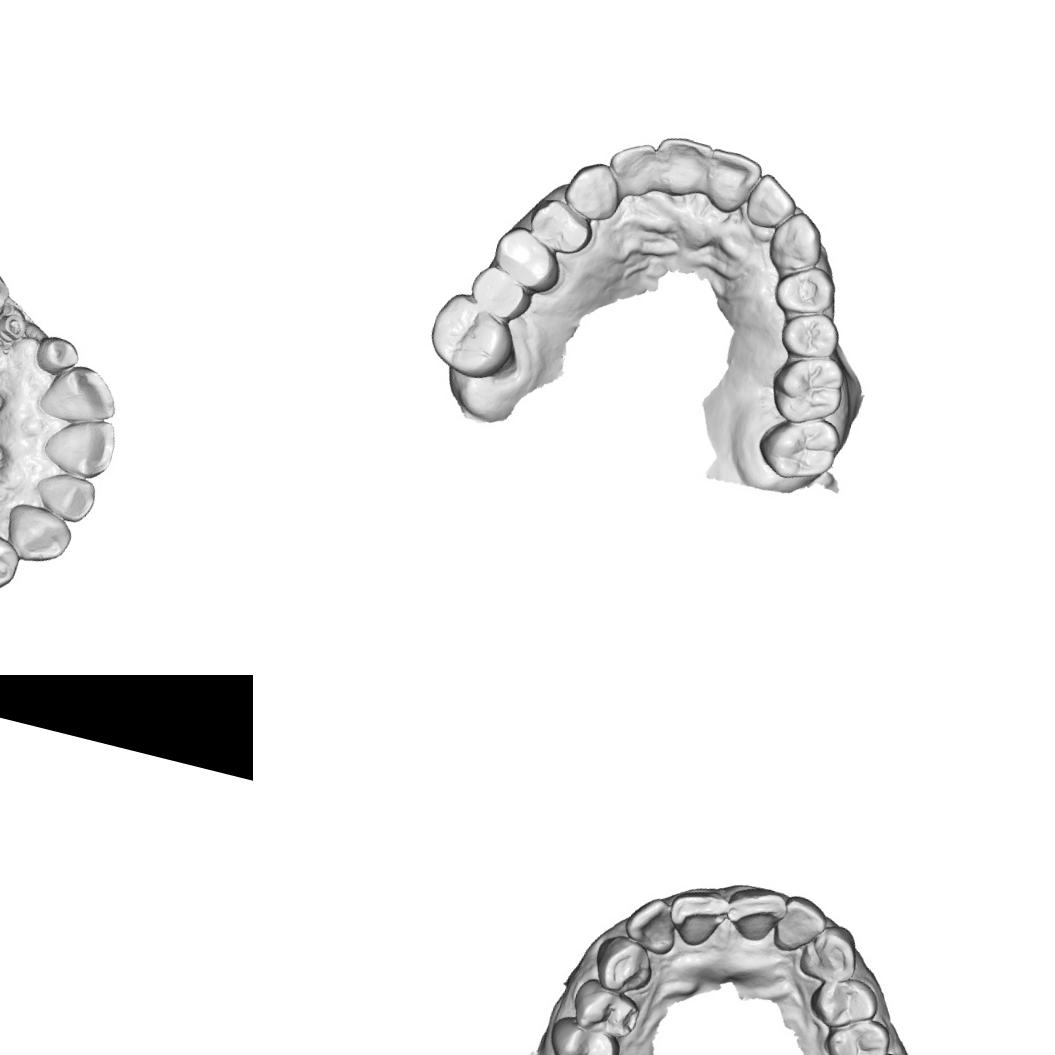canine: (0, 497, 76, 569), (761, 202, 831, 280), (586, 929, 660, 1000), (794, 916, 866, 988), (557, 154, 627, 224)
implant: (0, 308, 30, 349)
incisor: (32, 356, 125, 432), (36, 407, 122, 484), (697, 142, 767, 222), (661, 882, 733, 954), (648, 128, 718, 200), (719, 879, 791, 947), (618, 890, 685, 958), (28, 466, 102, 527), (740, 167, 804, 235), (770, 890, 833, 958), (603, 134, 668, 196), (29, 330, 84, 380)
molar: (420, 285, 528, 388), (751, 404, 847, 492), (760, 348, 850, 433), (463, 258, 540, 322)
premolar: (485, 220, 571, 298), (802, 966, 884, 1038), (565, 974, 646, 1044), (522, 191, 598, 257), (768, 256, 841, 322), (775, 304, 846, 368), (818, 1008, 896, 1055), (539, 1013, 625, 1055), (0, 517, 26, 598)
